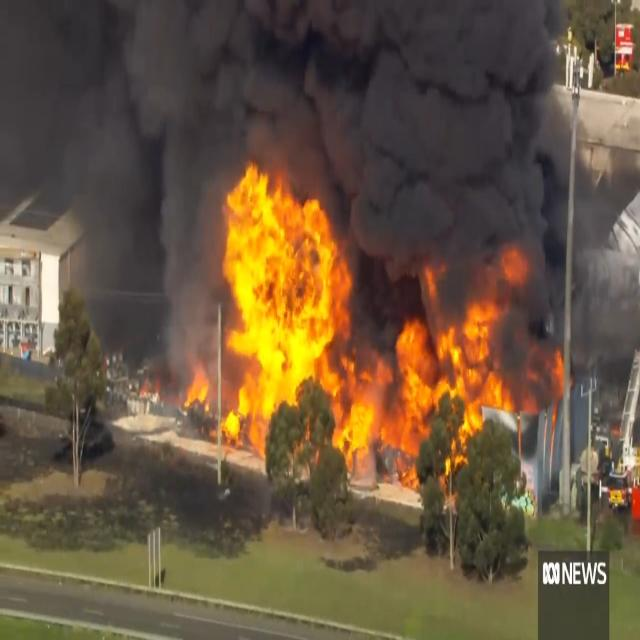fire: (191, 163, 551, 510)
